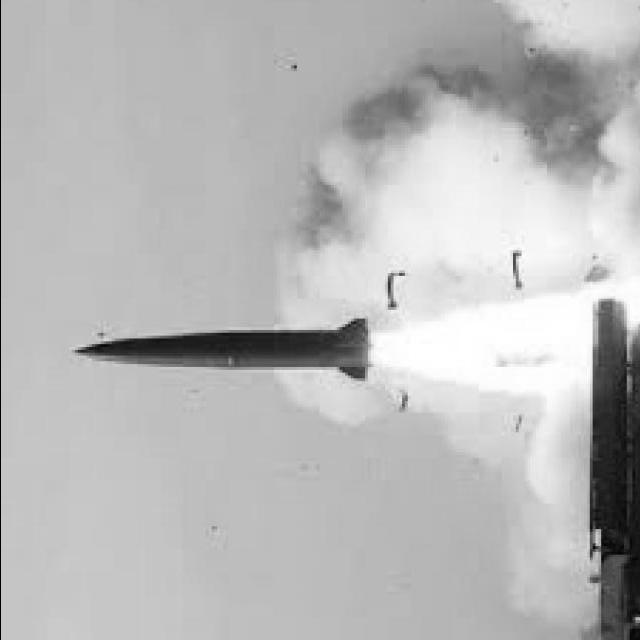missile: (59, 302, 389, 387)
